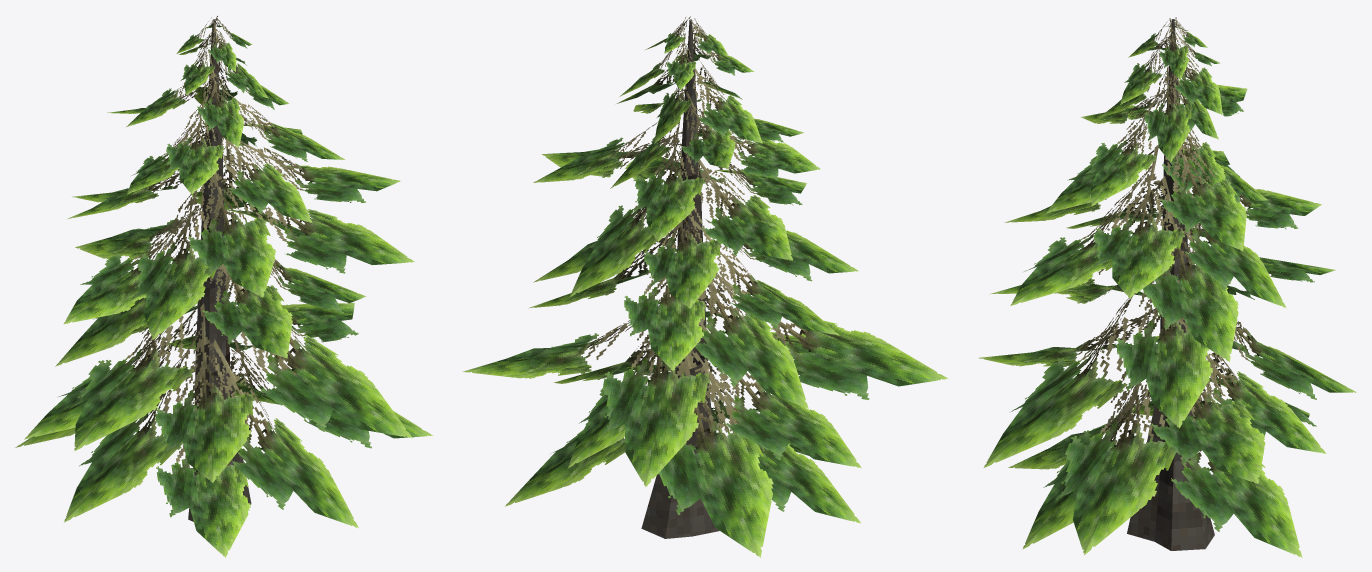
The model's file is Sketchfab_Scene.gltf.
The picture shows the model from 3 angles, left to right: view 1: azimuth 30°, elevation 25°; view 2: azimuth 150°, elevation 25°; view 3: azimuth 270°, elevation 25°; orthographic projection. The views are drawn at different scales.
Visible parts, largest first — view 1: Plane.037; view 2: Plane.037; view 3: Plane.037.
Part boxes in pixels (<box>): Plane.037: <box>15,16,432,557</box>; Plane.037: <box>462,16,948,557</box>; Plane.037: <box>978,17,1356,557</box>.
Size of the model in its own units: 9.39 by 11.84 by 7.87.
Materials: 1 (1 with a texture image).
